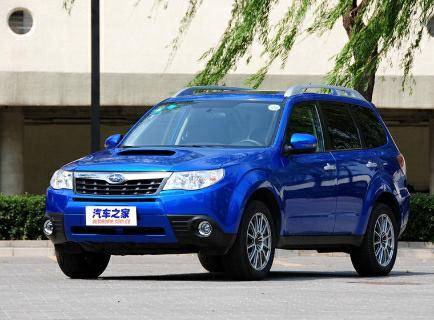斯巴鲁-森林人: (37, 89, 409, 287)
